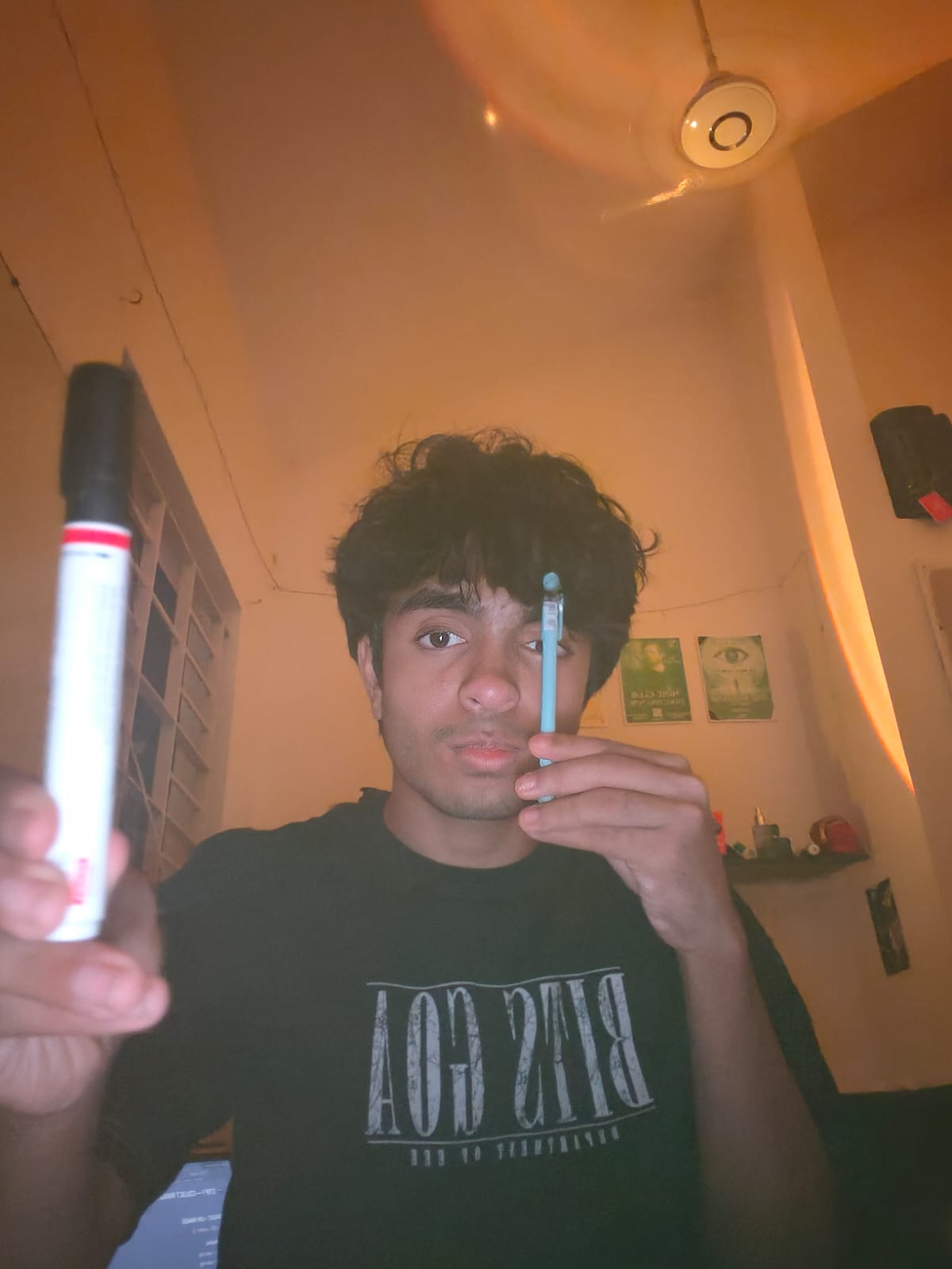case: (61, 355, 150, 946)
pen: (532, 571, 569, 829)
